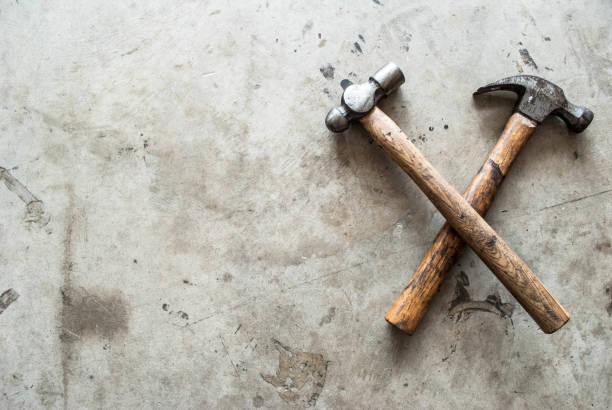hammer: (322, 59, 449, 204), (467, 71, 595, 208)
